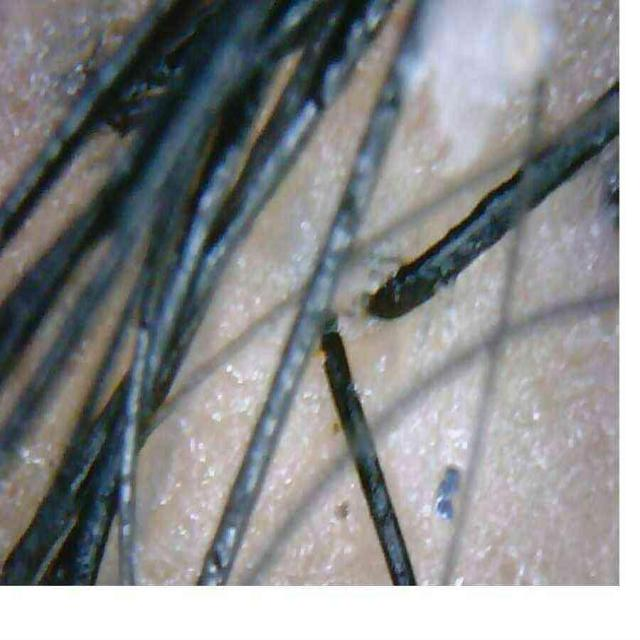d: (392, 0, 568, 185)
o: (149, 359, 265, 558)
